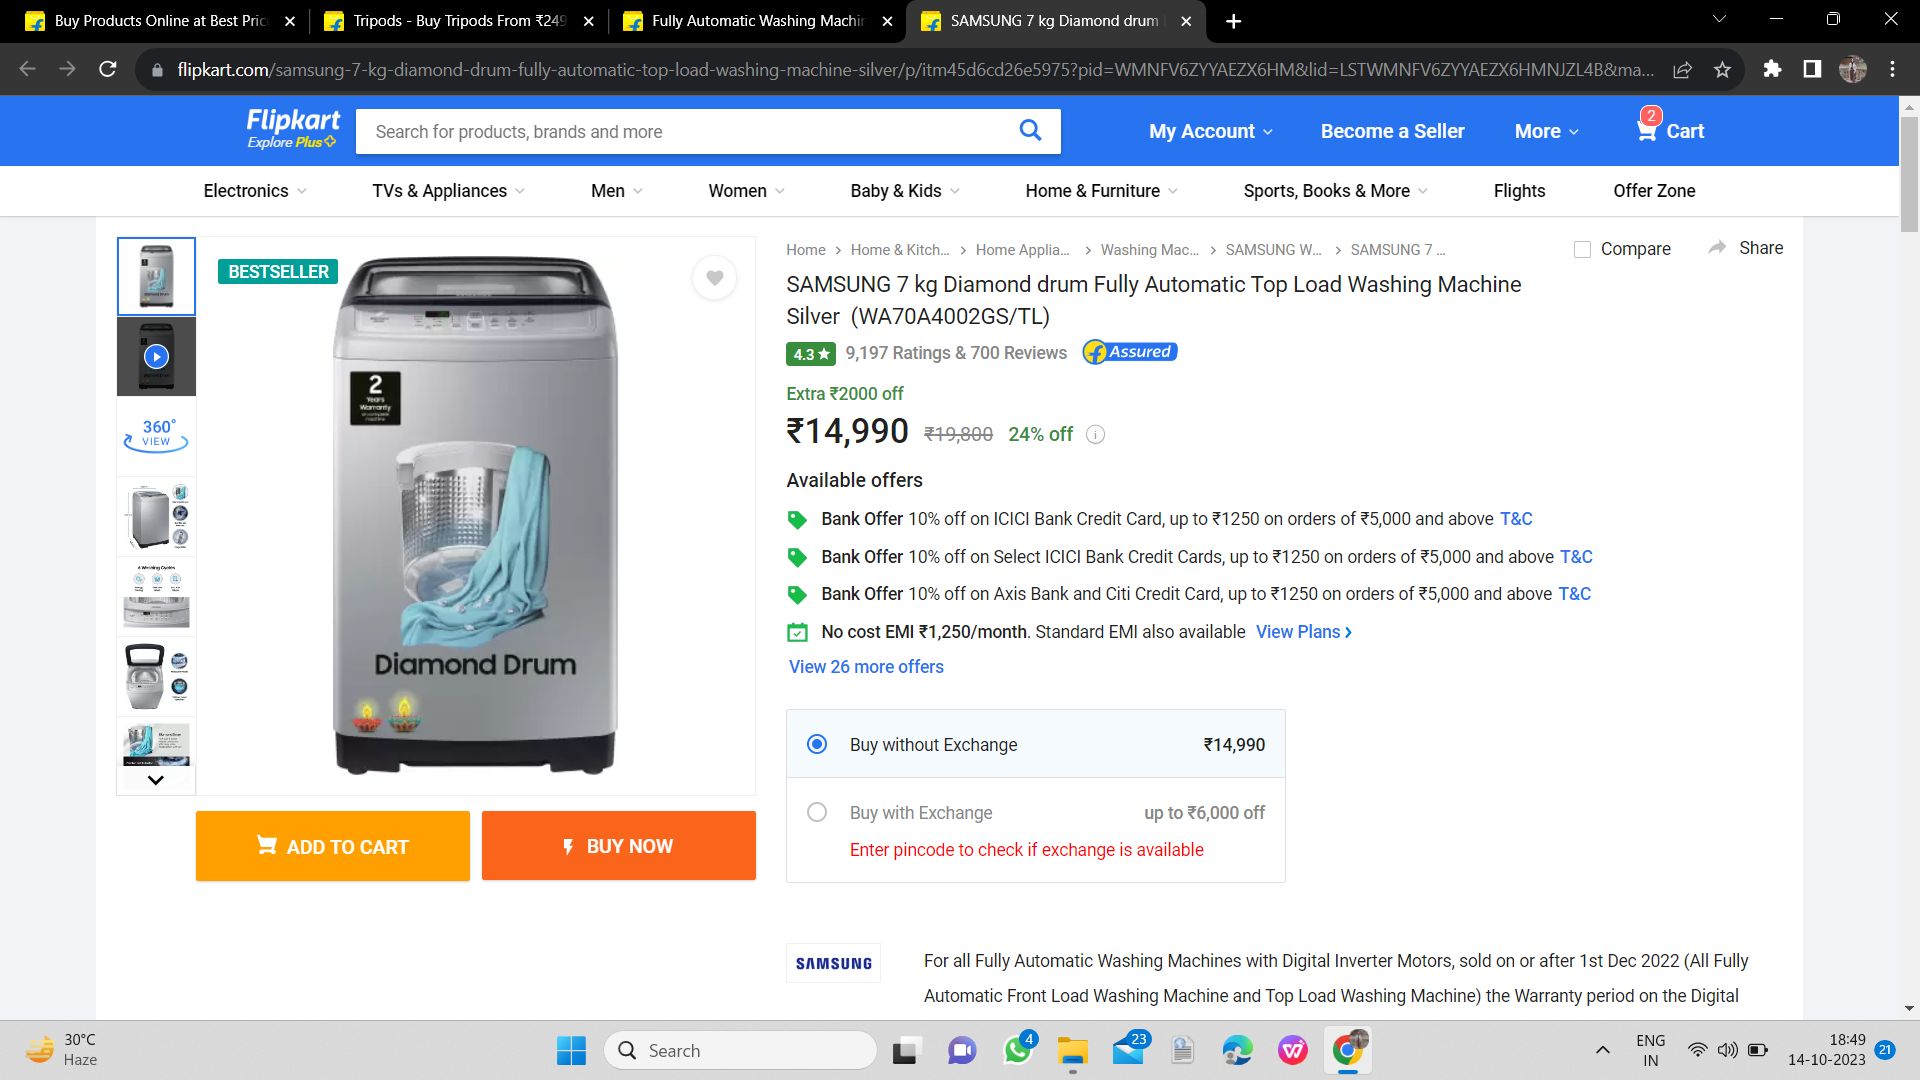Image: (216, 240, 756, 790), (340, 99, 1083, 162)
Paragraph: (783, 468, 1592, 679), (783, 934, 1775, 1017), (798, 781, 1276, 876), (181, 804, 766, 880), (783, 272, 1527, 328), (791, 712, 1275, 777), (1133, 108, 1716, 152), (779, 382, 1106, 444), (777, 340, 1188, 367)
